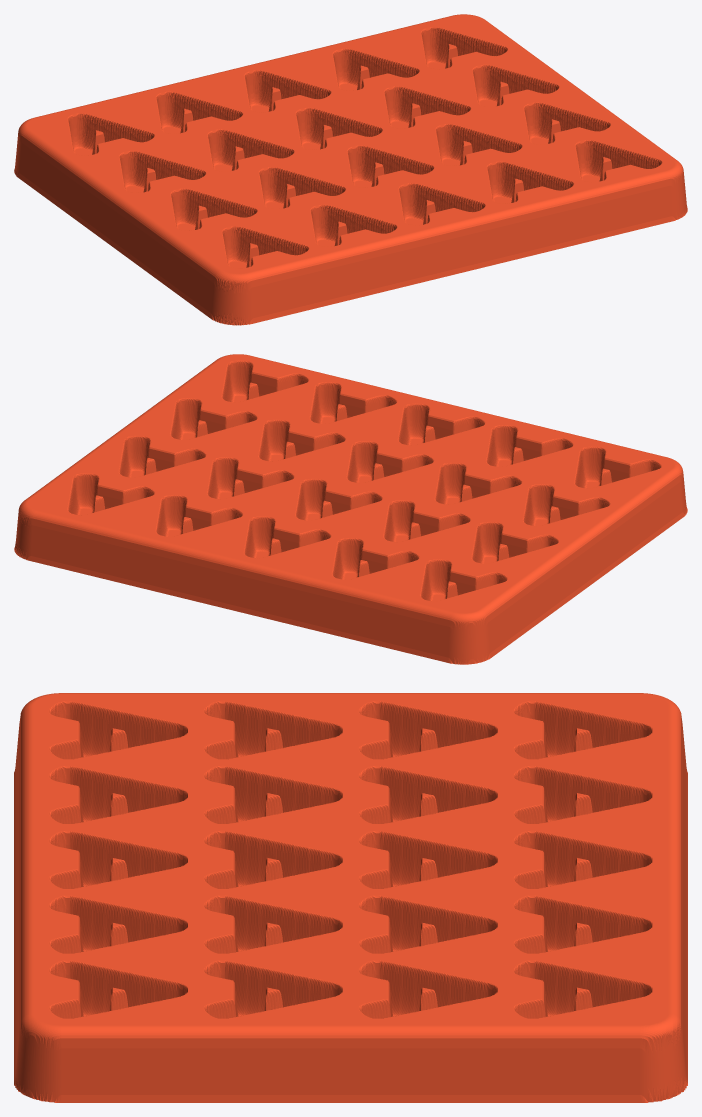
The model's file is mold.glb.
3 views of the same model, one above another, from view 1: azimuth 30°, elevation 25°; view 2: azimuth 150°, elevation 25°; view 3: azimuth 270°, elevation 25° (orthographic). The views are drawn at different scales.
Visible parts, largest first — view 1: geometry_0; view 2: geometry_0; view 3: geometry_0.
Boxes of the visible parts, box(x1,y1,x2,y2) form: geometry_0: box(14, 14, 687, 325); geometry_0: box(14, 354, 687, 664); geometry_0: box(14, 693, 687, 1102).
Bounding box in the file's own units: 0.1558 × 0.0145 × 0.1278.
